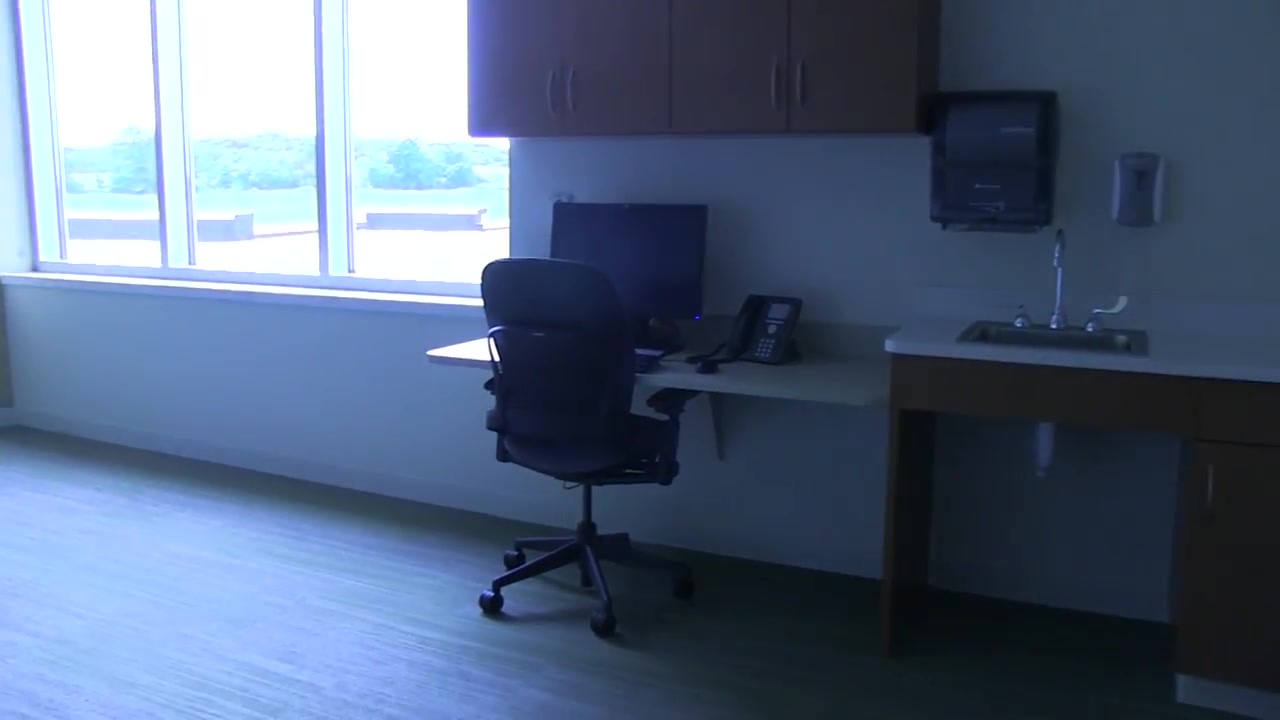cabinet: (466, 1, 930, 140)
chair: (480, 257, 702, 637)
computer: (550, 202, 709, 322)
countertop: (426, 323, 884, 409), (889, 305, 1280, 381)
dispenser: (929, 89, 1060, 232), (1106, 150, 1166, 226)
drawer: (1174, 397, 1280, 710)
faucet: (1006, 228, 1131, 334)
handle: (769, 58, 780, 113), (795, 58, 806, 108), (545, 71, 556, 115), (1204, 460, 1213, 513), (566, 66, 575, 116)
keyboard: (630, 345, 663, 376)
mouse: (693, 357, 719, 375)
sink: (957, 318, 1150, 360)
telephone: (726, 294, 803, 365)
